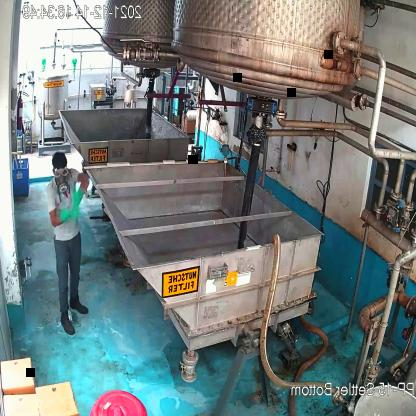goggles: (52, 166, 70, 180)
mask: (54, 172, 71, 194)
shoes: (57, 308, 78, 340), (70, 289, 88, 315)
